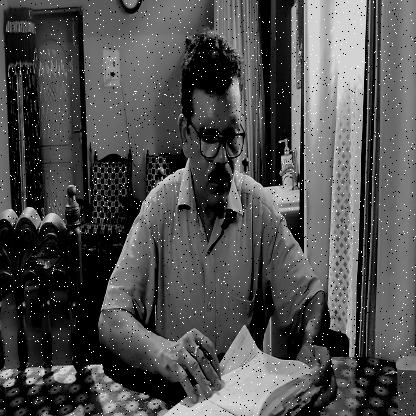Normal: (178, 33, 245, 217)
